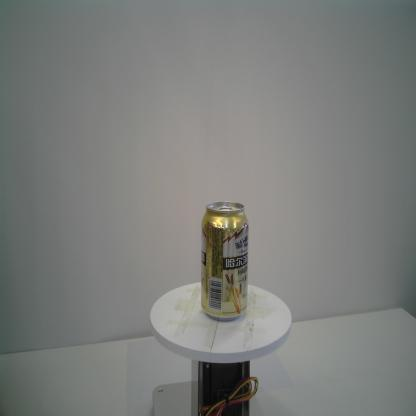Alcohol: (200, 200, 250, 321)
